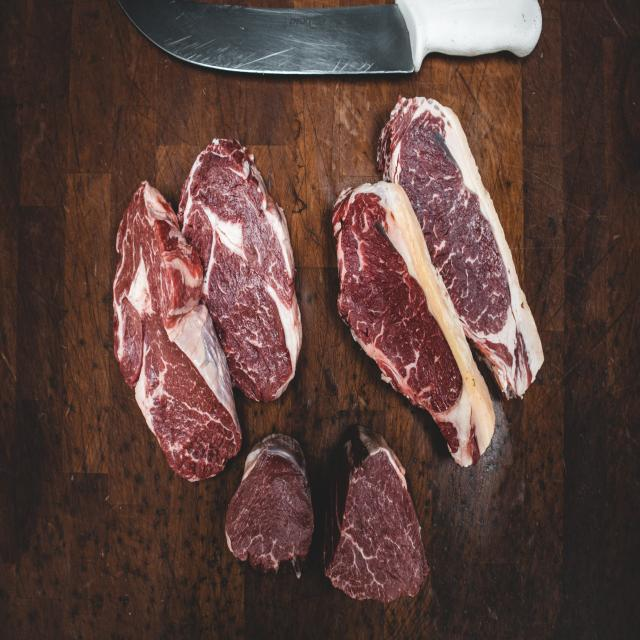beef: (339, 134, 492, 472), (376, 96, 548, 396), (128, 198, 228, 462), (195, 165, 288, 374), (346, 459, 421, 598), (239, 441, 310, 564)
